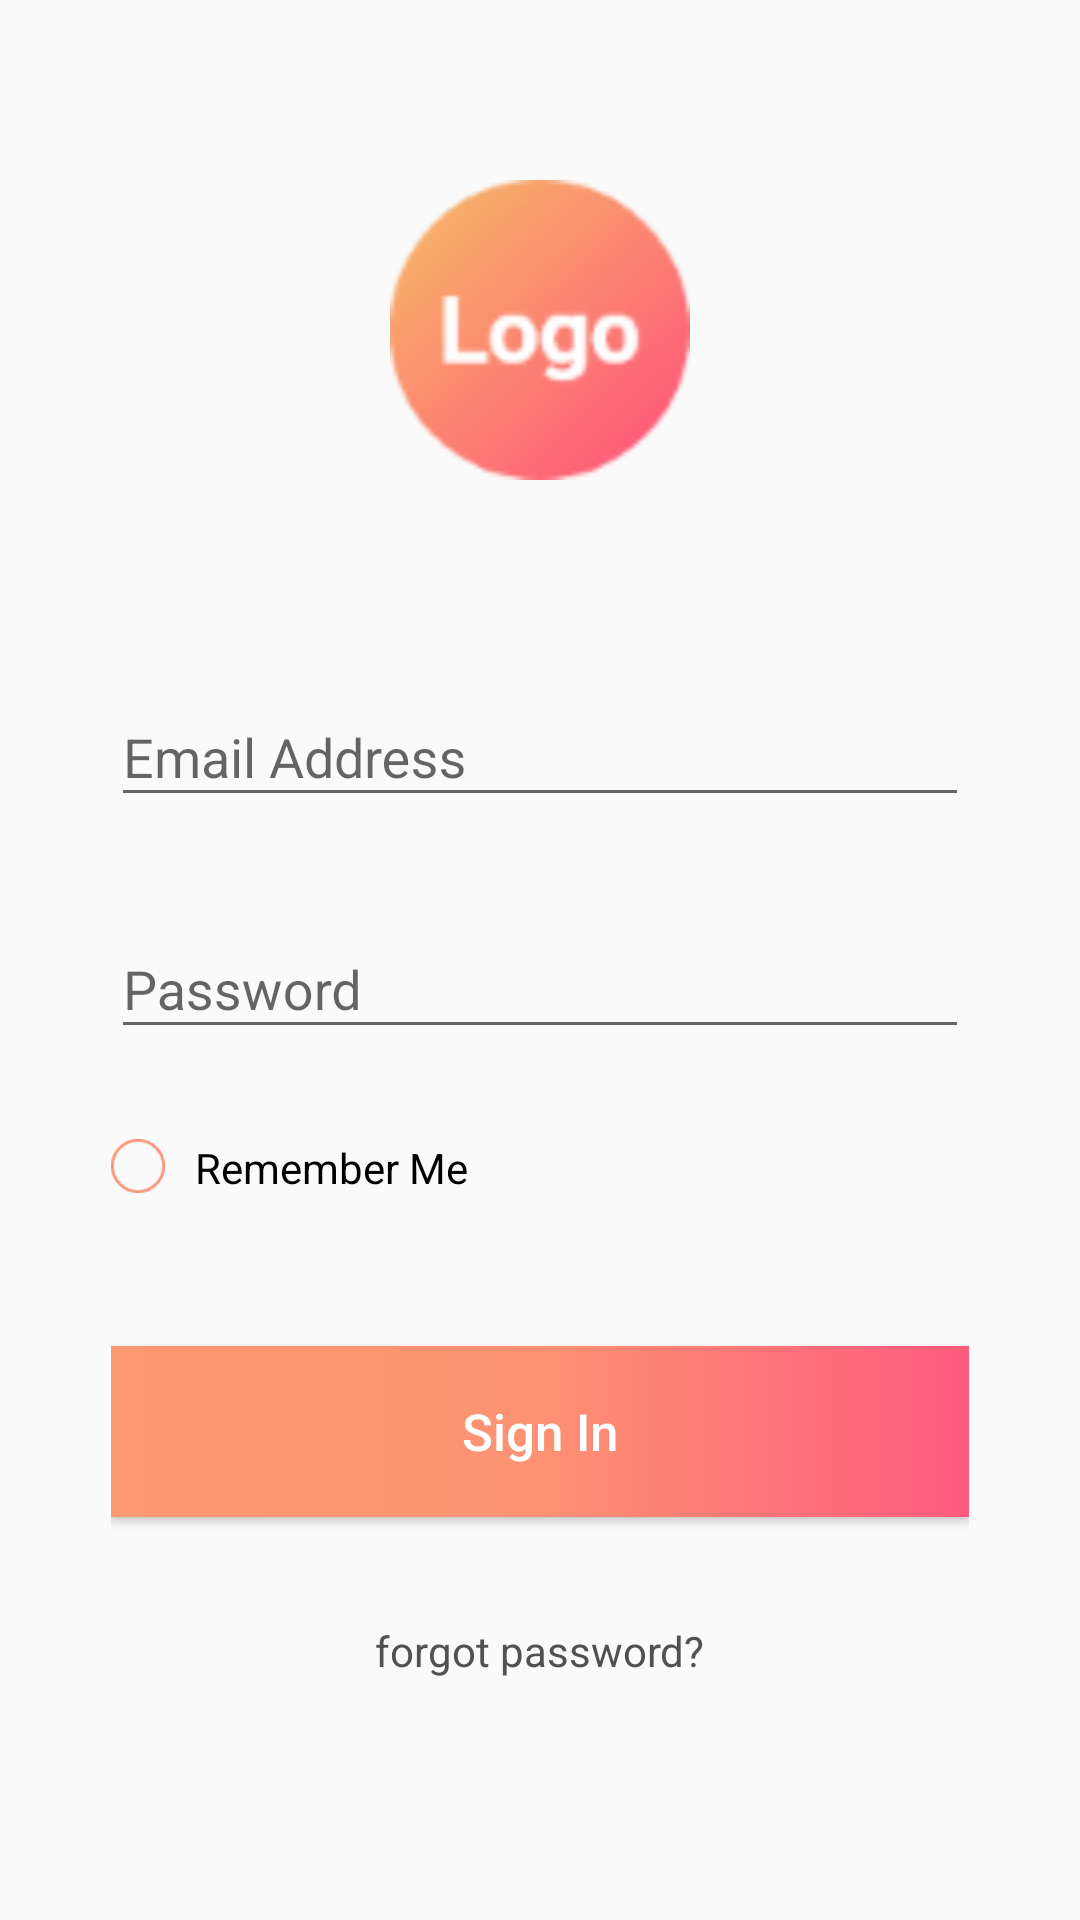

Locate icon controls on the screen. Image size 1080 × 1920, boxes as box(x1, y1, x2, y2).
unchecked: box(111, 1139, 165, 1193)
